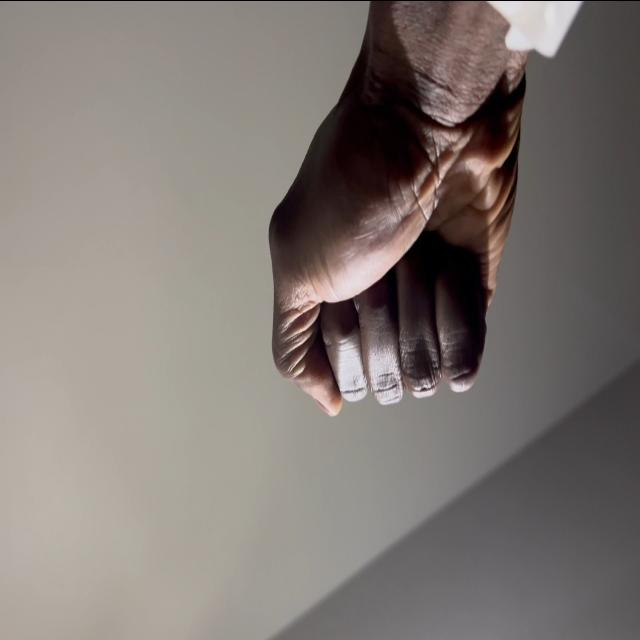Rock: (268, 55, 532, 415)
